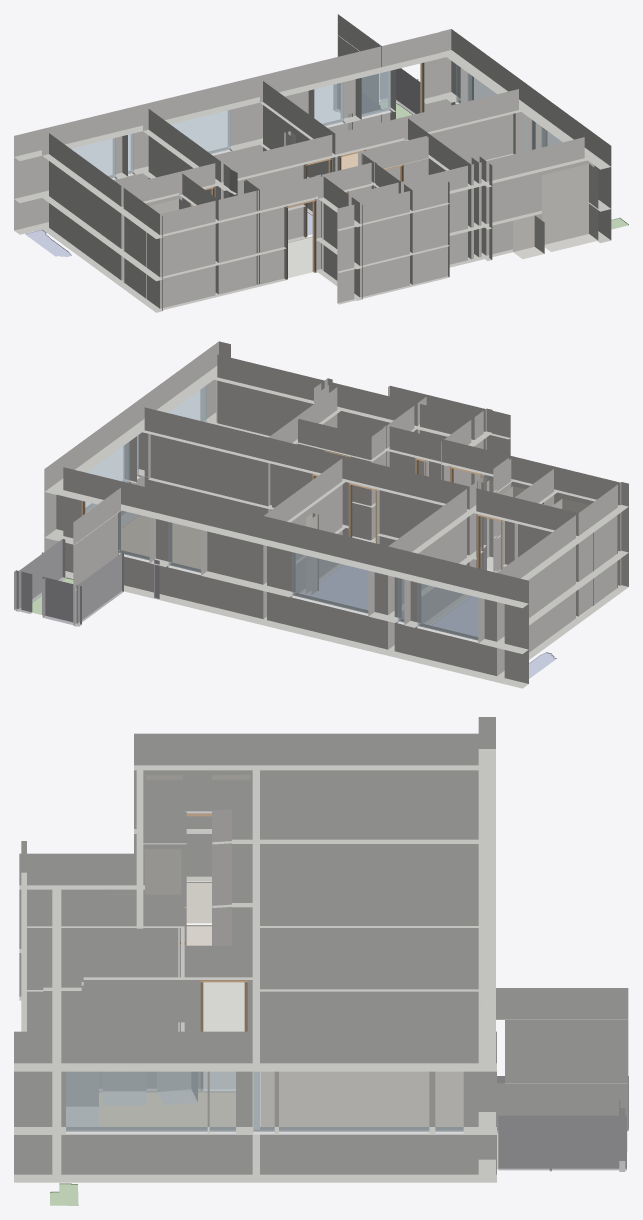
3 views of the same model, one above another, from view 1: azimuth 30°, elevation 25°; view 2: azimuth 150°, elevation 25°; view 3: azimuth 270°, elevation 25° (orthographic). The views are drawn at different scales.
Visible parts, largest first — view 1: walls, furniture_9_closet, window_5, railings, furniture_13_appliance, window_11, window_13, window_6, floor_5_Undefined, door_7, floor_12_Bed_Room, furniture_2_closet (+1 smaller); view 2: walls, railings, window_5, window_6, floor_2_Living_Room, floor_1_Bed_Room, window_13, window_11, floor_0_Bed_Room, window_3, window_1; view 3: walls, floor_2_Living_Room, window_3, window_1, railings, floor_6_Kitchen, floor_5_Undefined, furniture_12_appliance, window_15, furniture_5_closet, window_9, furniture_16_sink (+5 smaller).
Boxes of the visible parts, x1=… form: walls: x1=14, y1=14, x2=611, y2=312; furniture_9_closet: x1=542, y1=164, x2=598, y2=251; window_5: x1=170, y1=110, x2=230, y2=153; railings: x1=333, y1=68, x2=420, y2=130; furniture_13_appliance: x1=513, y1=215, x2=544, y2=258; window_11: x1=358, y1=71, x2=390, y2=116; window_13: x1=314, y1=82, x2=343, y2=125; window_6: x1=71, y1=138, x2=115, y2=178; floor_5_Undefined: x1=288, y1=236, x2=312, y2=277; door_7: x1=286, y1=199, x2=316, y2=279; floor_12_Bed_Room: x1=25, y1=229, x2=71, y2=257; furniture_2_closet: x1=123, y1=198, x2=190, y2=290; walls: x1=44, y1=341, x2=628, y2=688; railings: x1=14, y1=539, x2=159, y2=626; window_5: x1=292, y1=552, x2=371, y2=613; window_6: x1=417, y1=582, x2=481, y2=640; floor_2_Living_Room: x1=121, y1=515, x2=200, y2=569; floor_1_Bed_Room: x1=303, y1=565, x2=367, y2=609; window_13: x1=168, y1=522, x2=200, y2=572; window_11: x1=118, y1=510, x2=149, y2=559; floor_0_Bed_Room: x1=431, y1=596, x2=477, y2=636; window_3: x1=85, y1=440, x2=129, y2=513; window_1: x1=165, y1=385, x2=206, y2=421; walls: x1=14, y1=717, x2=628, y2=1182; floor_2_Living_Room: x1=261, y1=1072, x2=463, y2=1126; window_3: x1=279, y1=1067, x2=429, y2=1131; window_1: x1=66, y1=1067, x2=207, y2=1131; railings: x1=497, y1=1076, x2=628, y2=1171; floor_6_Kitchen: x1=99, y1=1091, x2=235, y2=1126; floor_5_Undefined: x1=203, y1=982, x2=244, y2=1088; furniture_12_appliance: x1=60, y1=1072, x2=98, y2=1135; window_15: x1=435, y1=1067, x2=463, y2=1131; furniture_5_closet: x1=144, y1=849, x2=181, y2=894; window_9: x1=209, y1=1067, x2=235, y2=1131; furniture_16_sink: x1=103, y1=1072, x2=146, y2=1104.
Bounding box in the file's own units: 13.96 × 2.72 × 10.52.
